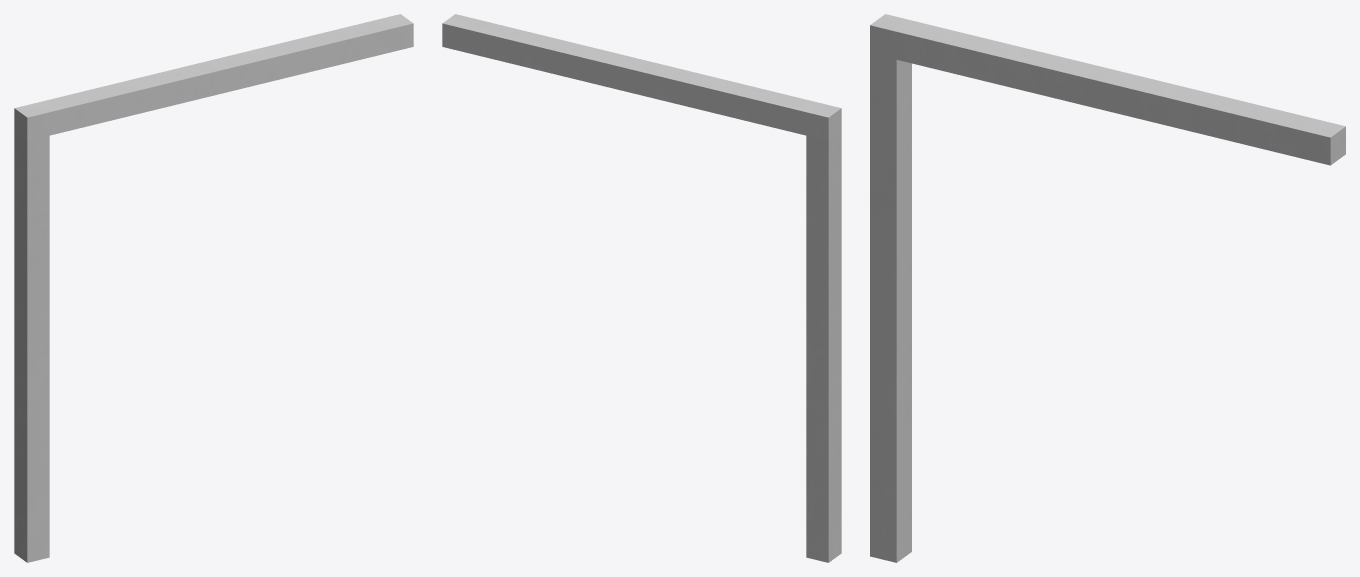
The model's file is fence-handrail-1m-cbj_LOD00.gltf.
The picture shows the model from 3 angles, left to right: view 1: azimuth 30°, elevation 25°; view 2: azimuth 150°, elevation 25°; view 3: azimuth 330°, elevation 25°; orthographic projection. The views are drawn at different scales.
Visible parts, largest first — view 1: post; view 2: post; view 3: post.
Boxes of the visible parts, <box> form: post: <box>14,14,413,562</box>; post: <box>442,14,841,562</box>; post: <box>870,14,1345,562</box>.
Bounding box in the file's own units: 1.21 × 1.33 × 0.07.
